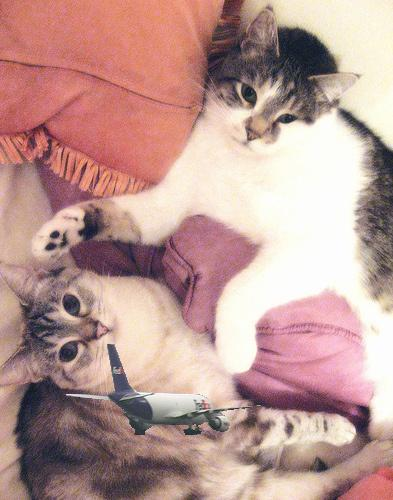tampered: (67, 345, 261, 435)
